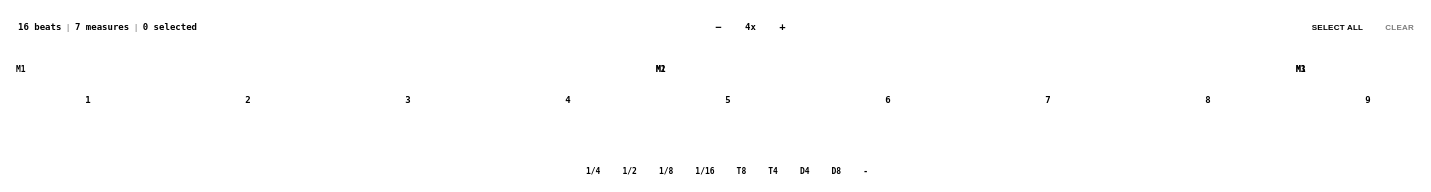
Test: BeatSubdivisionGrid › Zoom Controls › resets to default zoom when reset button is clicked
This screenshot has width=1431, height=192.
Click the button named "Reset to 1x" at (750, 27), box [732,16,768,38]
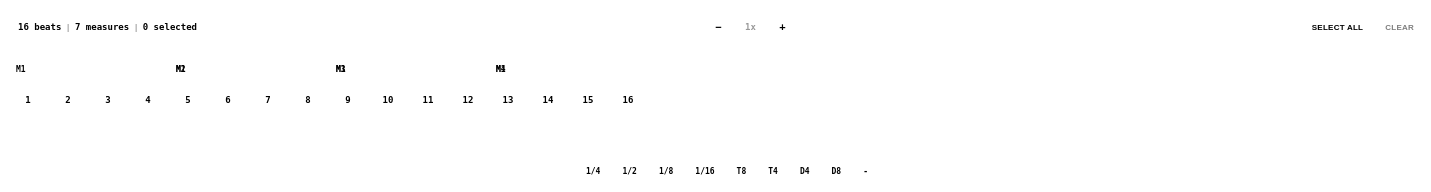
Now the button named "Reset to 1x" reads "1x", box [732,16,768,38]
